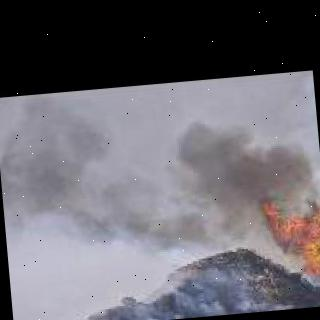fire: (11, 86, 309, 258), (267, 194, 320, 302)
